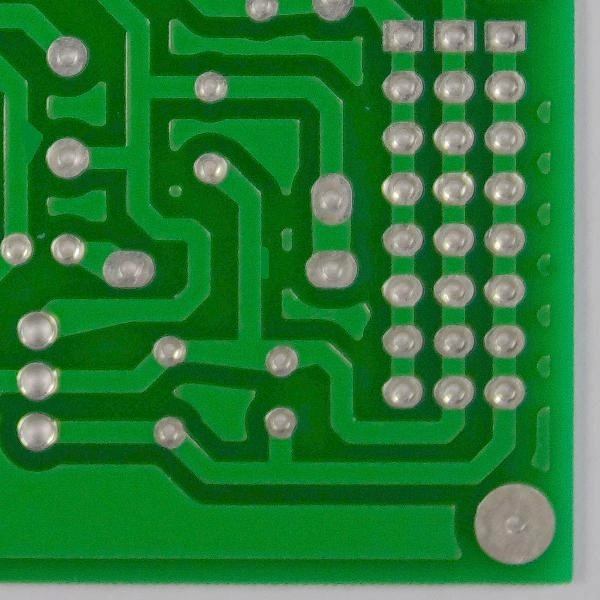spur: (7, 114, 45, 169), (242, 241, 274, 287)
